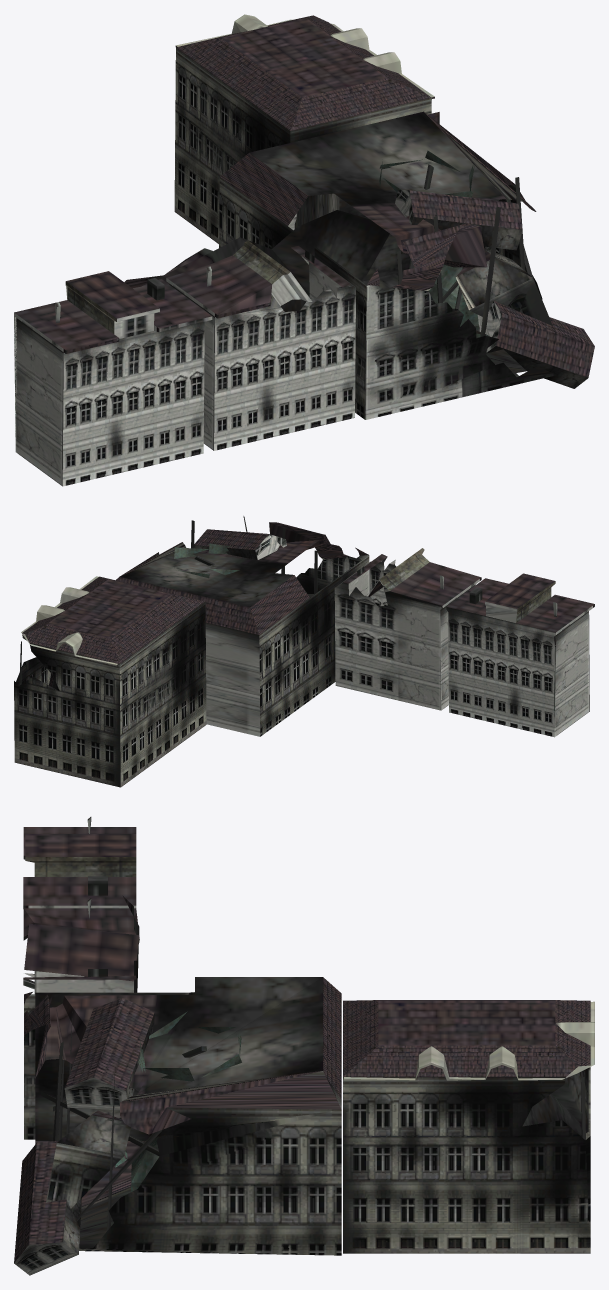
File: Ruin_CityBlock_03.fbx
The picture shows the model from 3 angles, top to bottom: view 1: azimuth 30°, elevation 25°; view 2: azimuth 150°, elevation 25°; view 3: azimuth 270°, elevation 25°; orthographic projection. The views are drawn at different scales.
Visible parts, largest first — view 1: Ruin_CityBlock_03_Part0_destroyed_cityblock01c; view 2: Ruin_CityBlock_03_Part0_destroyed_cityblock01c; view 3: Ruin_CityBlock_03_Part0_destroyed_cityblock01c.
Part boxes in pixels (box(x1,y1,x2,y2)): Ruin_CityBlock_03_Part0_destroyed_cityblock01c: box(14, 14, 594, 486); Ruin_CityBlock_03_Part0_destroyed_cityblock01c: box(14, 516, 594, 787); Ruin_CityBlock_03_Part0_destroyed_cityblock01c: box(14, 817, 594, 1275).
Bounding box in the file's own units: 2.98 × 1.06 × 2.58.
